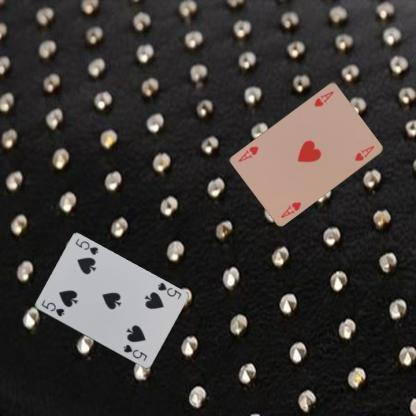5s: (38, 298, 66, 318), (154, 280, 182, 300)
Ah: (312, 88, 336, 108), (278, 199, 302, 219)
